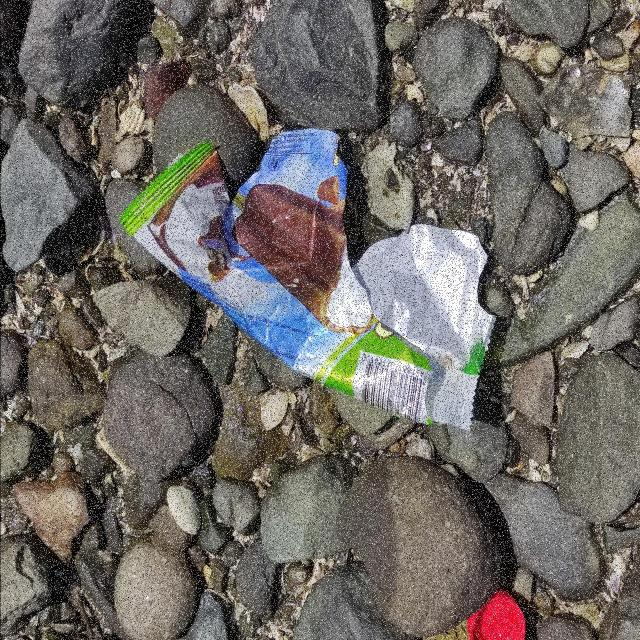plastic_waste: (121, 126, 498, 430), (467, 593, 528, 640)
